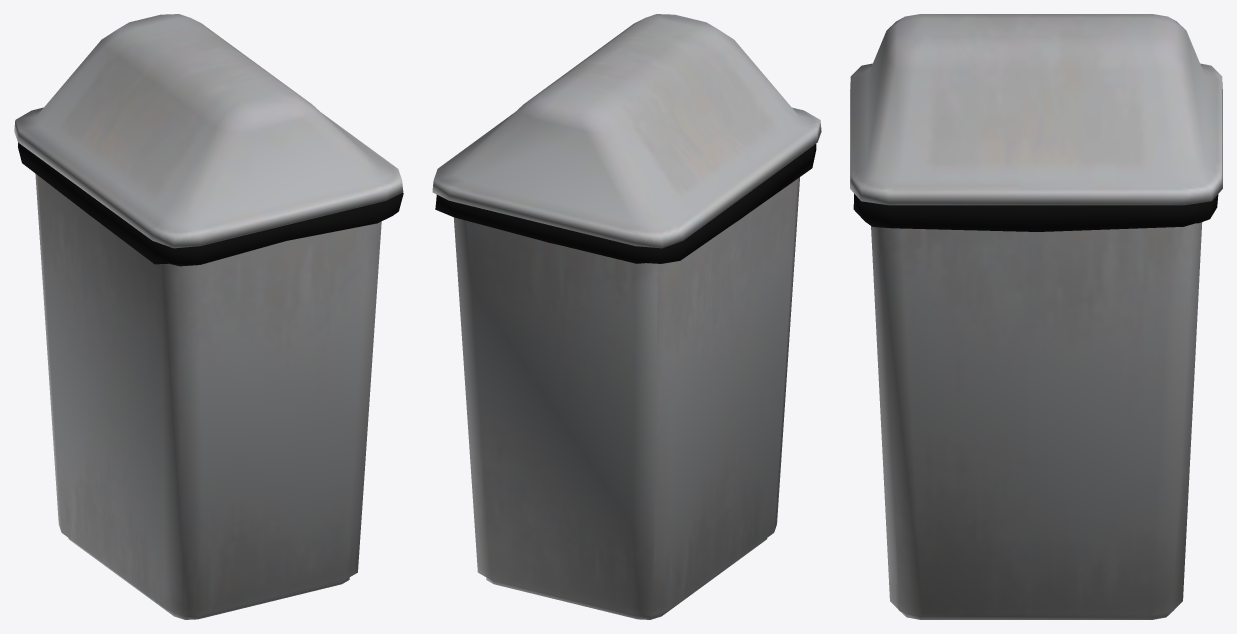
The model's file is trashbin_white.fbx.
The picture shows the model from 3 angles, left to right: view 1: azimuth 30°, elevation 25°; view 2: azimuth 150°, elevation 25°; view 3: azimuth 270°, elevation 25°; orthographic projection. The views are drawn at different scales.
Parts seen in each view (by area): view 1: trashbin_white; view 2: trashbin_white; view 3: trashbin_white.
Boxes of the visible parts, bbox=[...] form: trashbin_white: bbox=[14, 14, 403, 619]; trashbin_white: bbox=[432, 14, 821, 619]; trashbin_white: bbox=[850, 14, 1222, 619].
Size of the model in its own units: 42.8 by 82.08 by 50.81.
